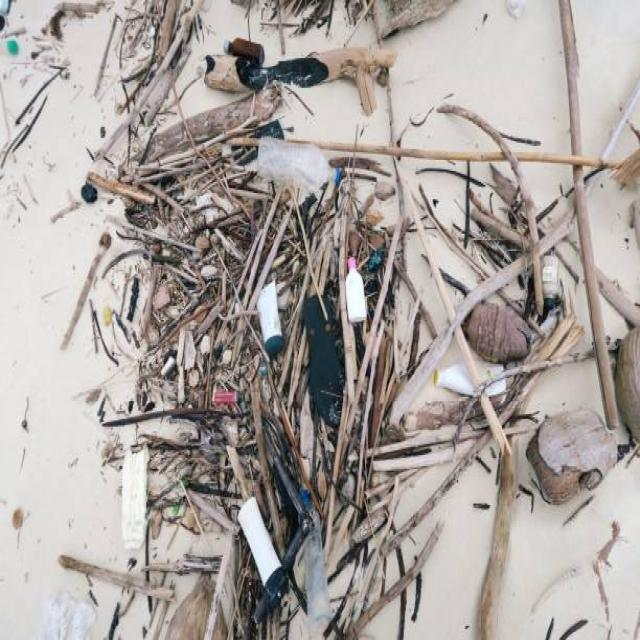trash: (17, 25, 627, 628)
